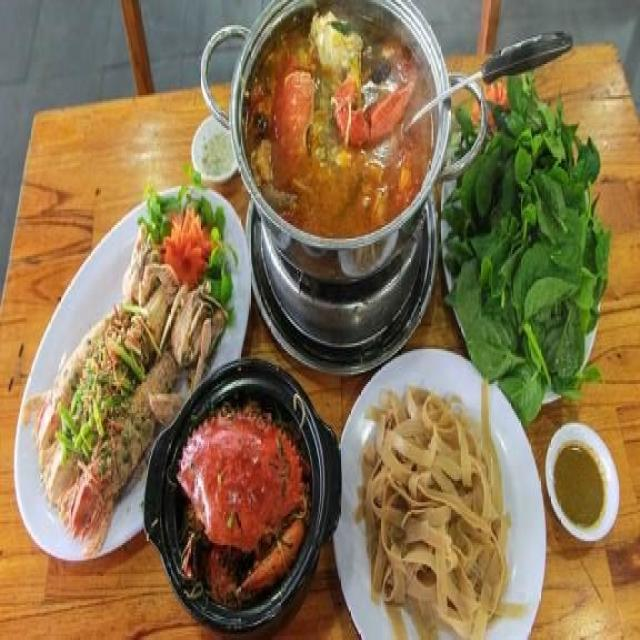ghe hap: (175, 389, 313, 607)
lau thai: (246, 0, 423, 214)
mi: (342, 379, 523, 640)
tom tit: (34, 203, 220, 526)
